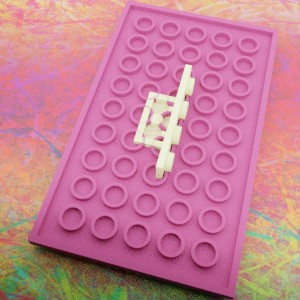lego: (27, 0, 279, 299), (133, 64, 195, 181)
